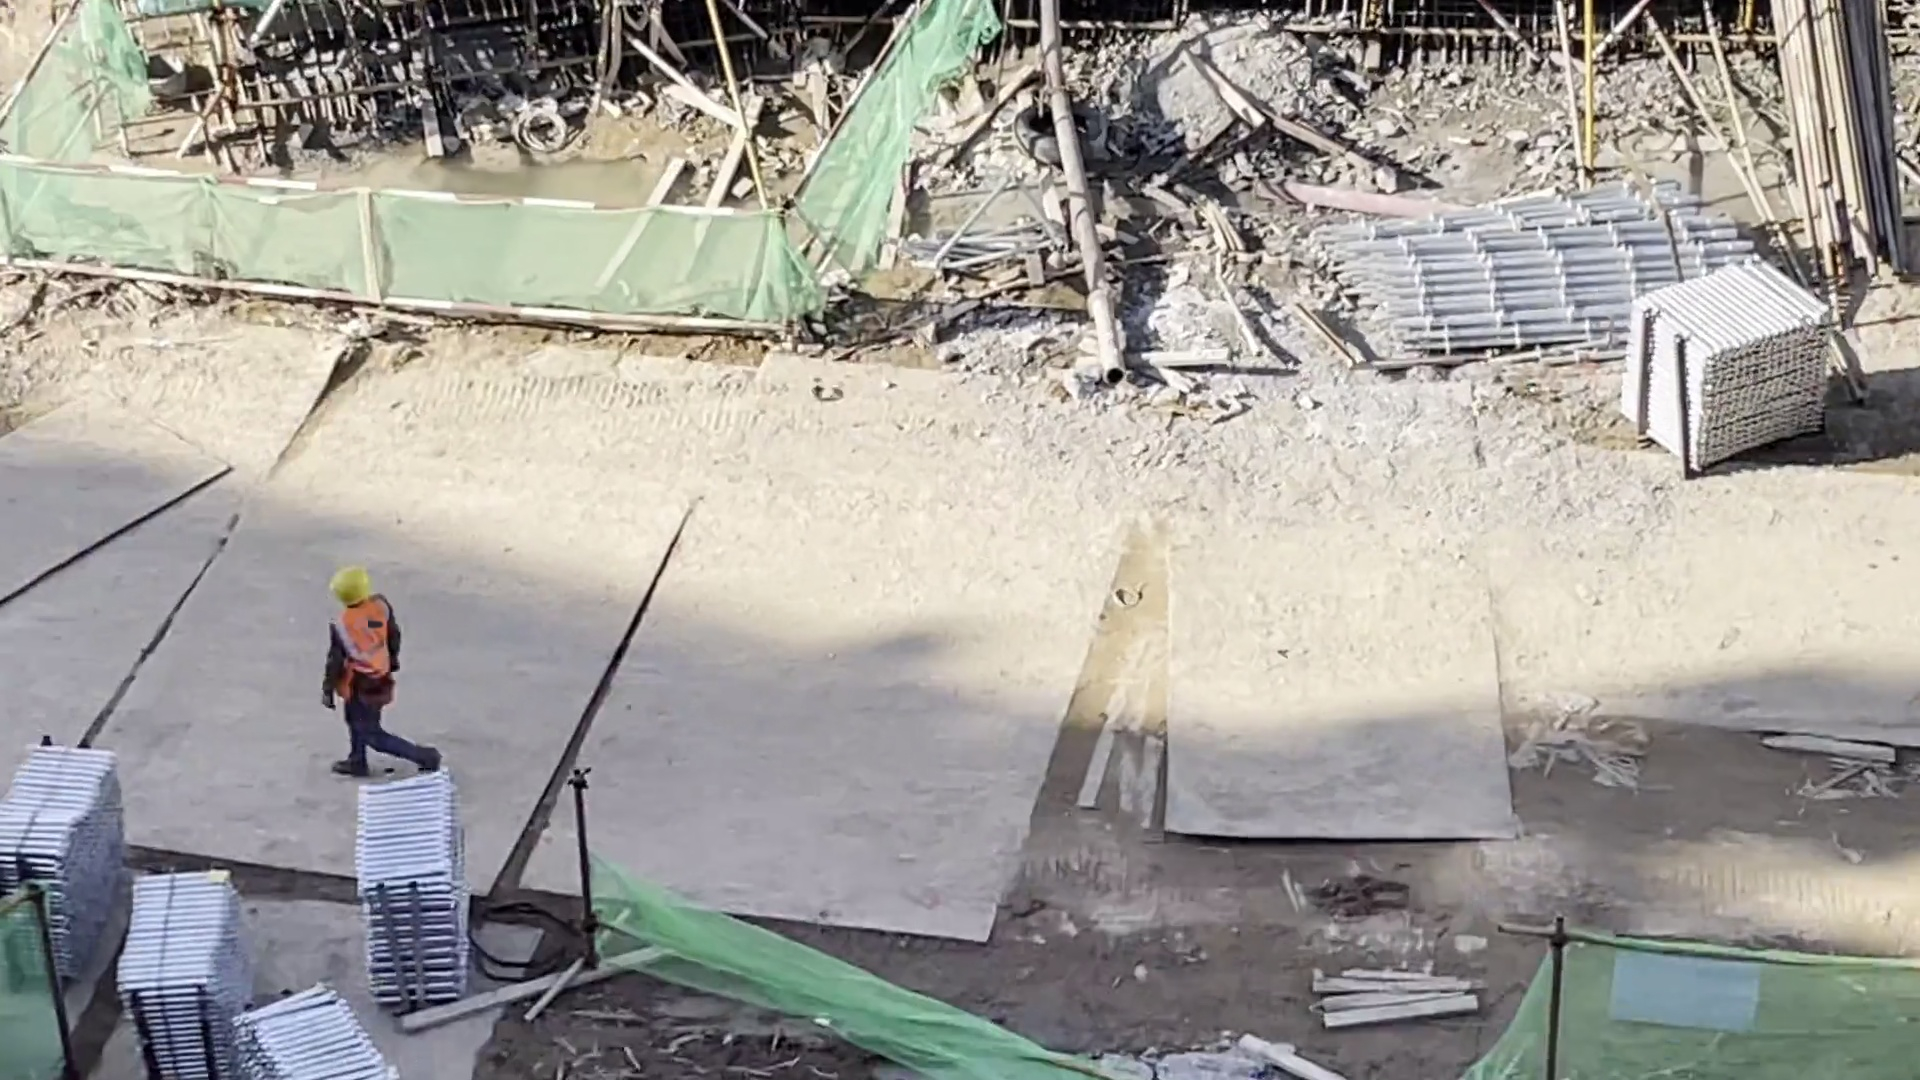helmet: (321, 557, 375, 609)
person: (301, 557, 448, 795)
scaffold: (1336, 171, 1760, 343), (1611, 236, 1837, 476), (1, 721, 129, 971), (351, 762, 469, 1017), (122, 868, 261, 1080), (228, 988, 410, 1080)
vest: (323, 594, 408, 709)
